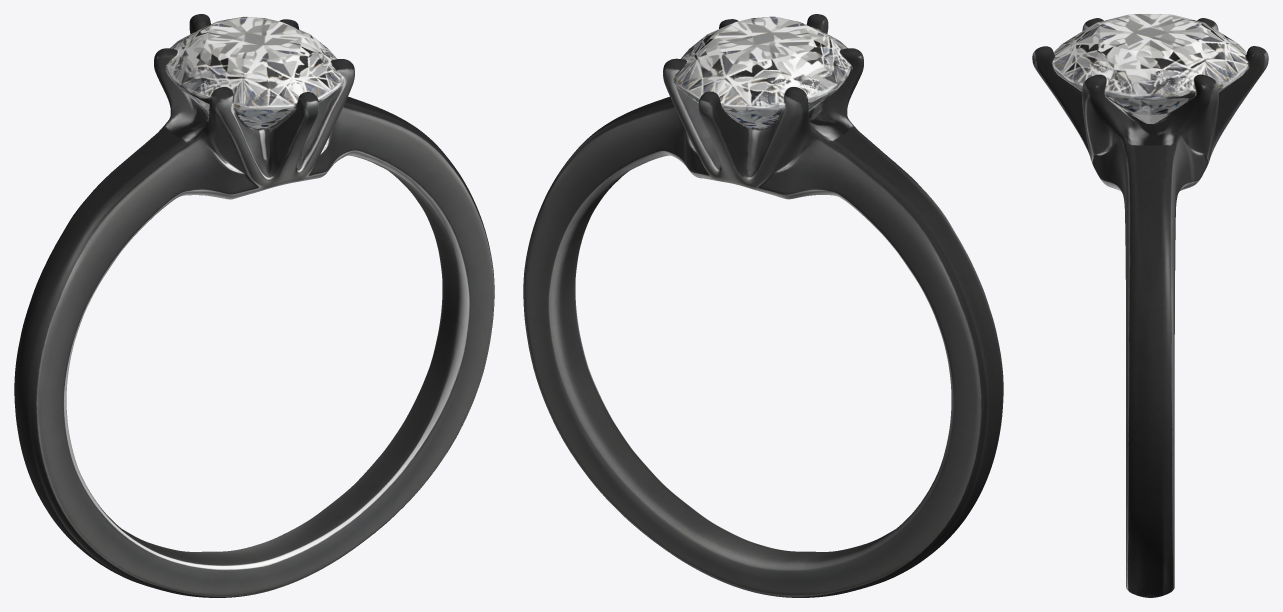
The model's file is ring.glb.
3 renders of one model, left to right at view 1: azimuth 30°, elevation 25°; view 2: azimuth 150°, elevation 25°; view 3: azimuth 270°, elevation 25°, orthographic.
Size of the model in its own units: 1.69 by 1.9 by 0.7466.
1 material, 1 textured.
